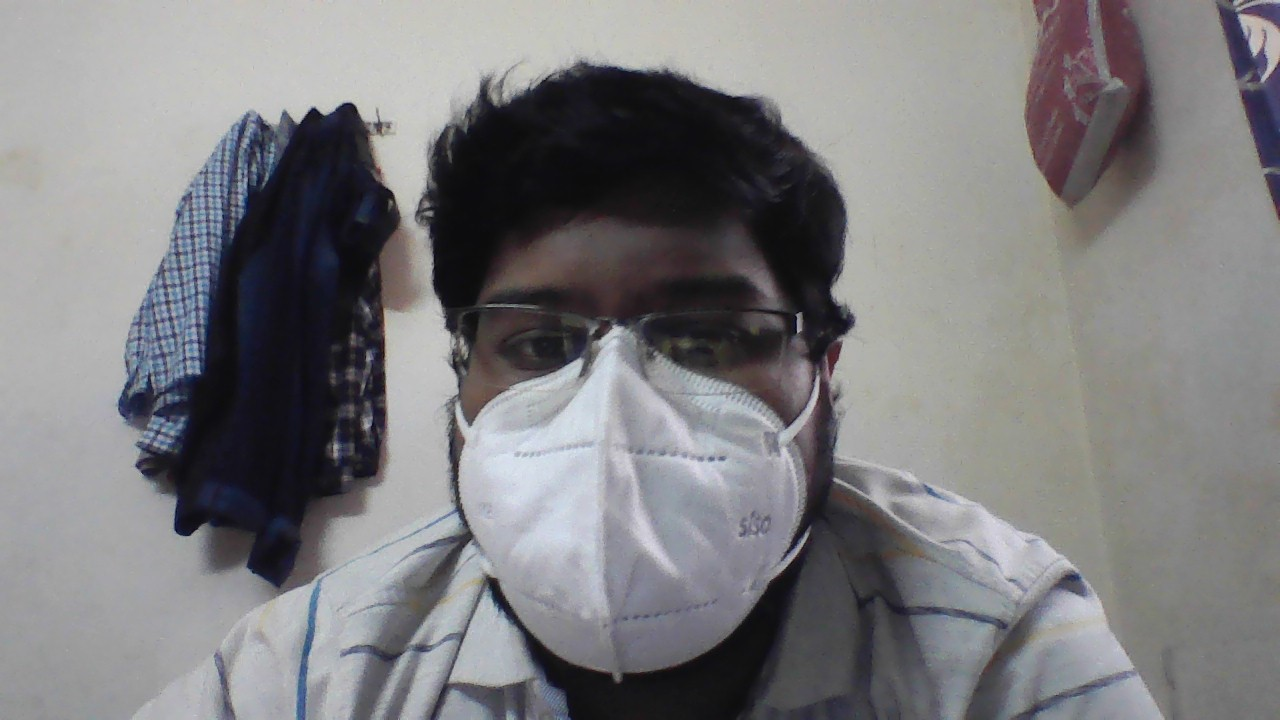Mask: (446, 365, 842, 612)
NoMask: (449, 365, 831, 603)
